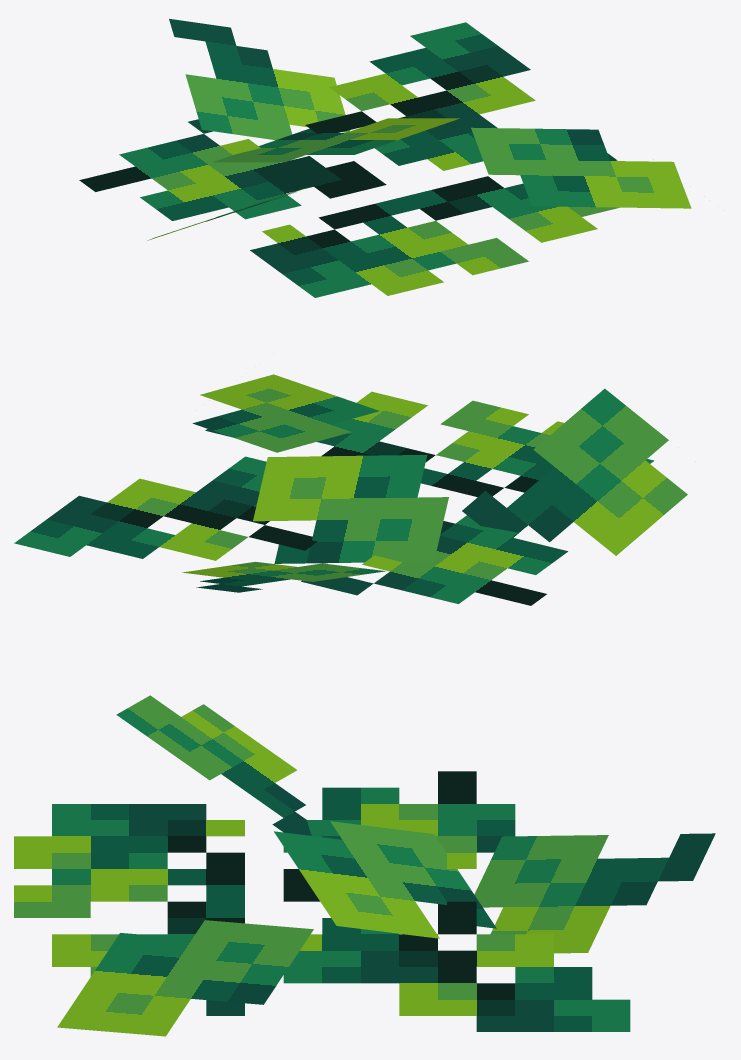
The model's file is clover-patch.gltf.
3 renders of one model, top to bottom at view 1: azimuth 30°, elevation 25°; view 2: azimuth 150°, elevation 25°; view 3: azimuth 270°, elevation 25°, orthographic. The views are drawn at different scales.
Parts seen in each view (by area): view 1: clover-patch; view 2: clover-patch; view 3: clover-patch.
Boxes of the visible parts, x1,y1,x2,y2 form: clover-patch: (79, 18, 691, 297); clover-patch: (14, 374, 687, 605); clover-patch: (14, 695, 715, 1036).
Size of the model in its own units: 1.2 by 0.2617 by 1.16.
1 material, 1 textured.
